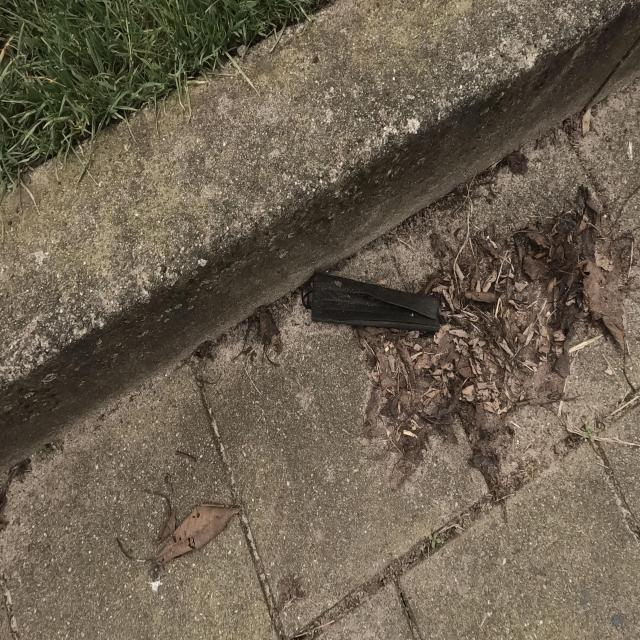Mask: (303, 268, 449, 336)
